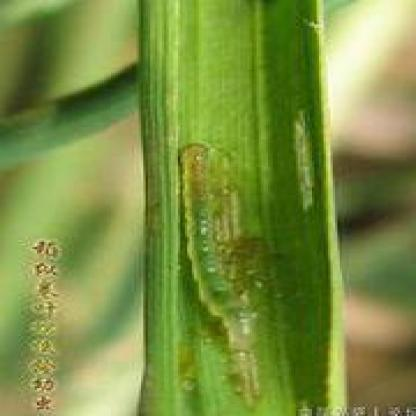leaf-folder: (142, 121, 284, 405)
